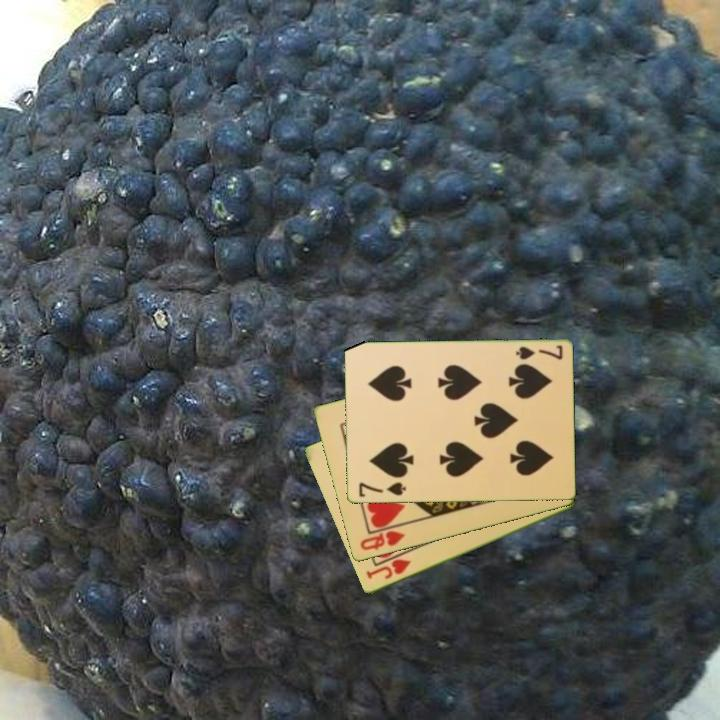7s: (355, 479, 409, 500), (512, 342, 565, 363)
Jh: (362, 556, 414, 582)
Qh: (356, 527, 408, 554)
